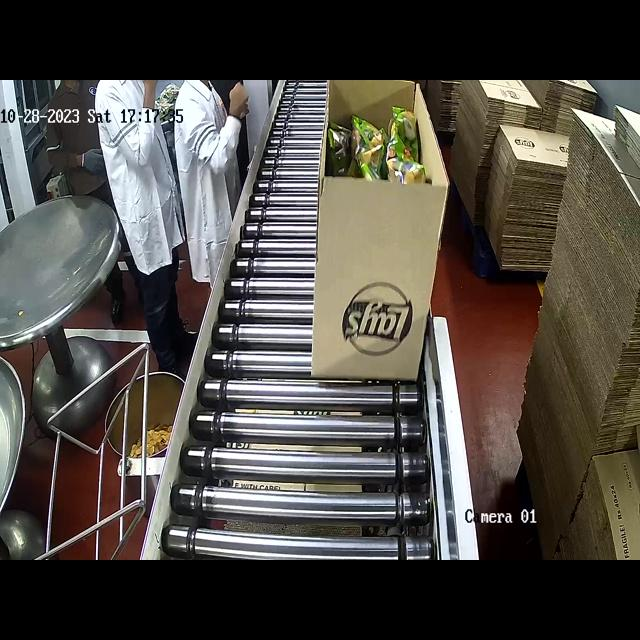yogurt: (329, 115, 432, 186)
